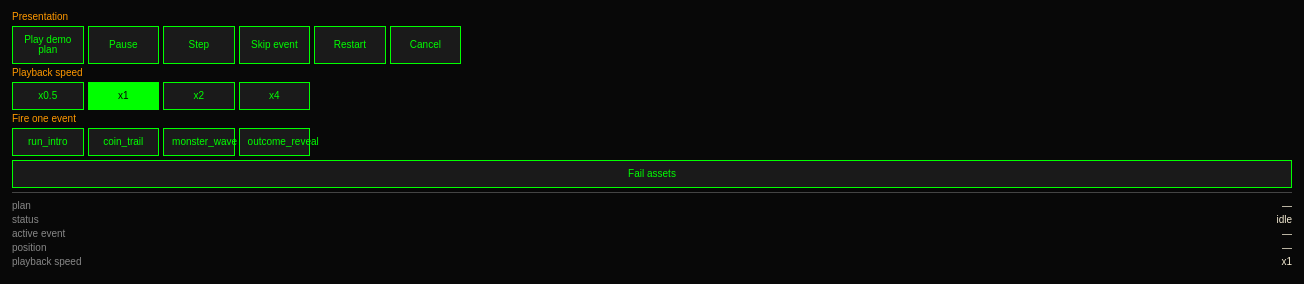
it: PresentationSection › sets the playback speed
This screenshot has width=1304, height=284.
Click the button "x4" at [274, 96], box [239, 82, 310, 110]
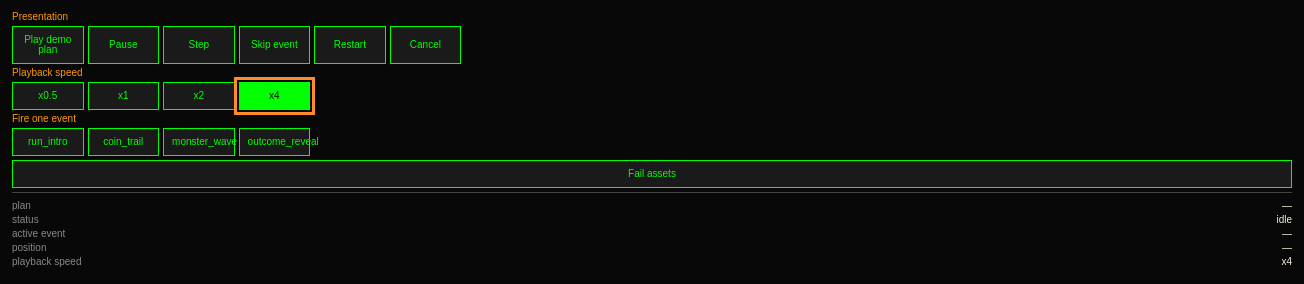
Expected: the text with test id "presentation-speed" reads "x4", [1281, 256, 1292, 267]
